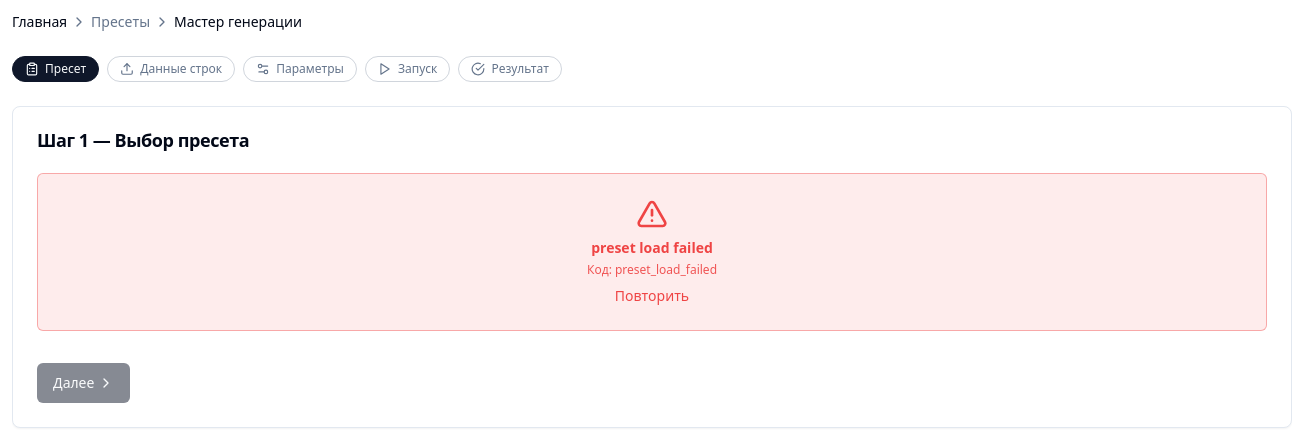
Scenario: GeneratePackWizardPage › retries preset loading without forcing a full page reload
Expected: the text "preset load failed" is shown, x1=587 y1=238 x2=717 y2=258
Click the button "Повторить": (652, 296) x1=615 y1=286 x2=689 y2=306
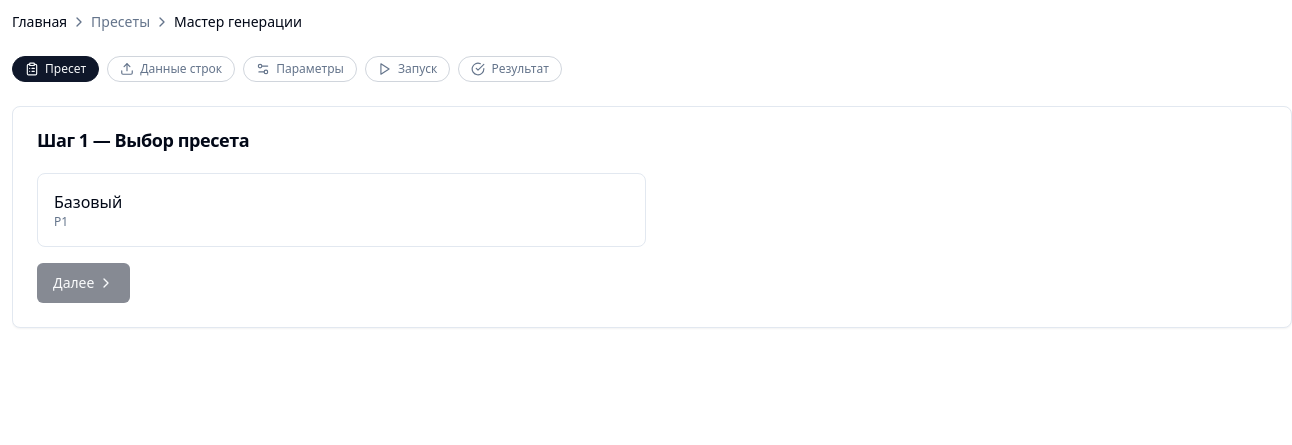
Expected: the button "Базовый P1" is shown, x1=37 y1=173 x2=646 y2=247
